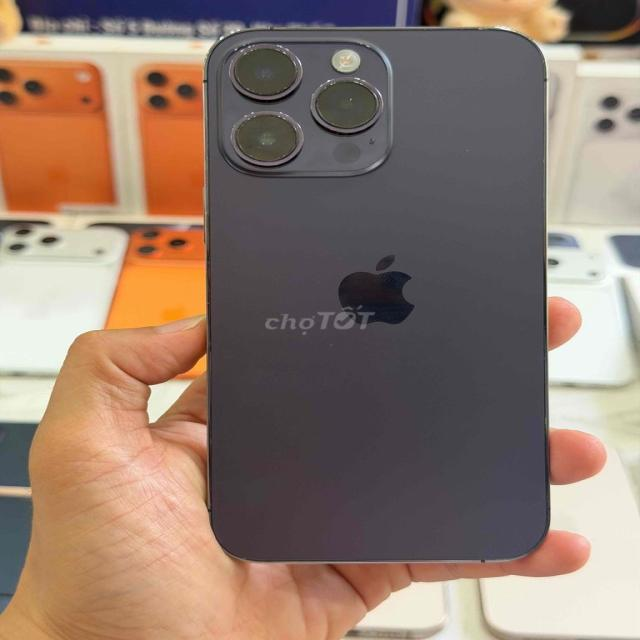gen_14: (185, 8, 562, 568)
